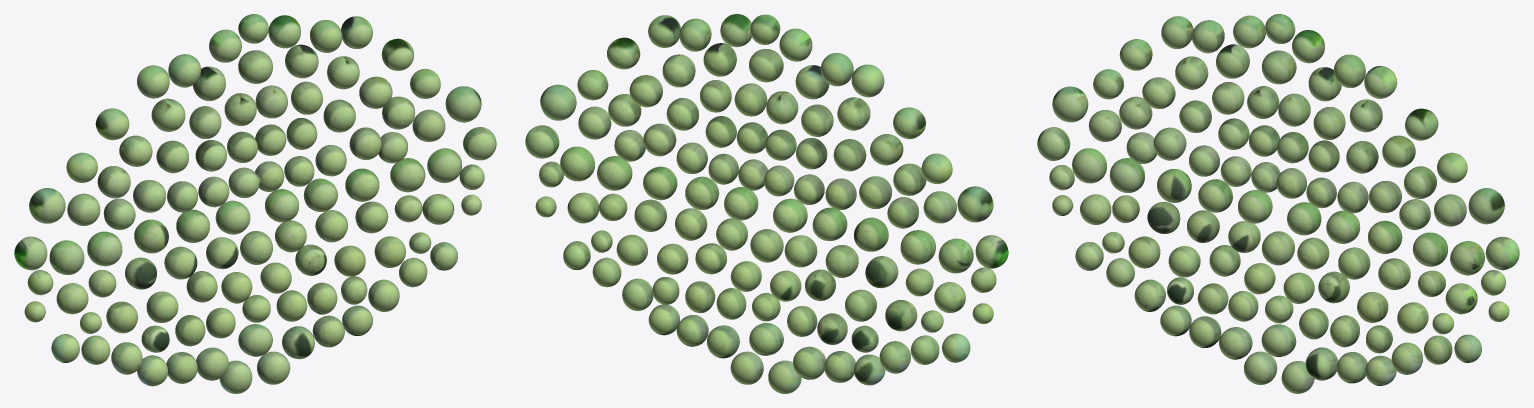
The model's file is Meshy_AI_chrorella_0310153006_texture.fbx.
3 renders of one model, left to right at view 1: azimuth 30°, elevation 25°; view 2: azimuth 150°, elevation 25°; view 3: azimuth 330°, elevation 25°, orthographic.
Visible parts, largest first — view 1: Mesh_0; view 2: Mesh_0; view 3: Mesh_0.
Part boxes in pixels (x1,y1,x2,y2): Mesh_0: (14, 14, 496, 393); Mesh_0: (525, 14, 1008, 393); Mesh_0: (1037, 14, 1519, 393).
Size of the model in its own units: 201 by 149 by 14.28.
Materials: 1 (1 with a texture image).
